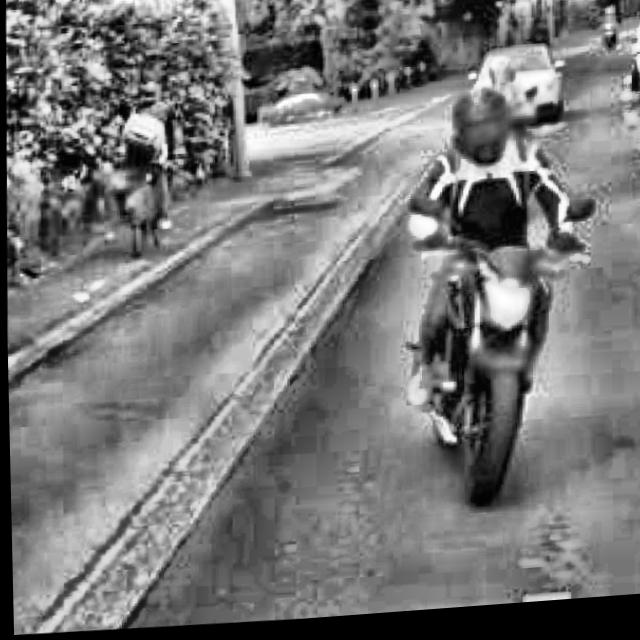bike: (109, 114, 191, 279)
motorcycle: (384, 168, 594, 519)
